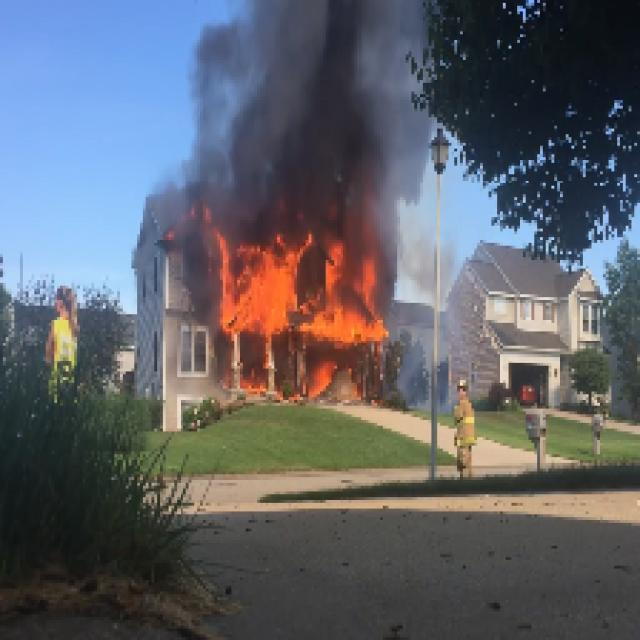Fire: (214, 228, 386, 338)
Smoke: (172, 3, 418, 203), (394, 217, 432, 357)
